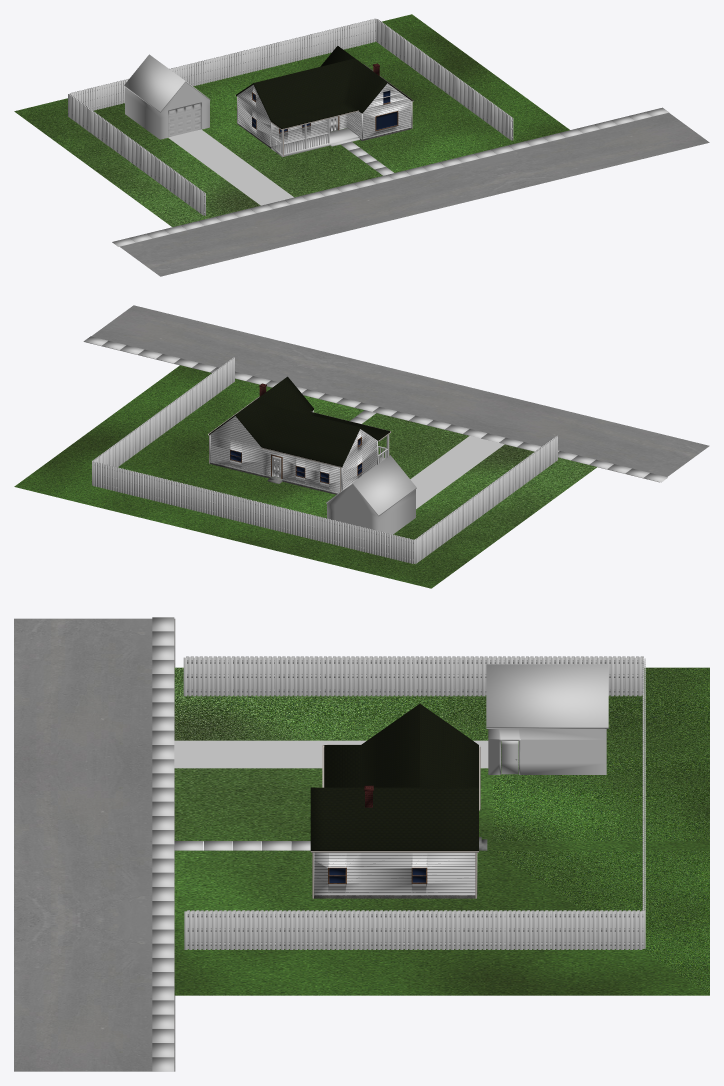
The model's file is house.fbx.
3 renders of one model, top to bottom at view 1: azimuth 30°, elevation 25°; view 2: azimuth 150°, elevation 25°; view 3: azimuth 270°, elevation 25°, orthographic. The views are drawn at different scales.
Visible parts, largest first — view 1: grass, road, house_roof, backfence, house_main, sidewalk, rightfence, leftfence, Plane_001, garage, garage_roof, house_porchfloor (+1 smaller); view 2: grass, road, backfence, house_roof, house_main, sidewalk, leftfence, rightfence, Plane_001, garage, garage_roof; view 3: grass, road, house_roof, rightfence, leftfence, sidewalk, garage_roof, house_main, garage, Plane_001, house_sidewalk, backfence (+1 smaller).
Part boxes in pixels (x1,y1,x2,y2): grass: (14, 14, 569, 227); road: (120, 113, 709, 276); house_roof: (236, 46, 412, 128); backfence: (69, 18, 375, 110); house_main: (237, 83, 411, 148); sidewalk: (112, 107, 668, 246); rightfence: (375, 19, 513, 140); leftfence: (68, 94, 205, 215); Plane_001: (168, 129, 293, 205); garage: (125, 82, 209, 139); garage_roof: (124, 54, 210, 112); house_porchfloor: (271, 128, 359, 156); grass: (14, 365, 597, 588); road: (84, 305, 709, 482); backfence: (92, 462, 414, 563); house_roof: (209, 376, 389, 467); house_main: (210, 411, 377, 494); sidewalk: (84, 336, 667, 482); leftfence: (415, 435, 557, 564); rightfence: (92, 357, 234, 485); Plane_001: (410, 436, 504, 508); garage: (327, 484, 415, 534); garage_roof: (326, 455, 416, 516); grass: (174, 667, 709, 995); road: (14, 618, 175, 1071); house_roof: (310, 704, 478, 850); rightfence: (184, 910, 644, 949); leftfence: (183, 656, 643, 696); sidewalk: (152, 617, 174, 1071); garage_roof: (486, 664, 608, 728); house_main: (314, 852, 475, 898); garage: (488, 729, 606, 774); Plane_001: (174, 740, 488, 768); house_sidewalk: (174, 841, 310, 850); backfence: (642, 657, 645, 948).
Bounding box in the file's own units: 41.19 × 4.04 × 26.69.
